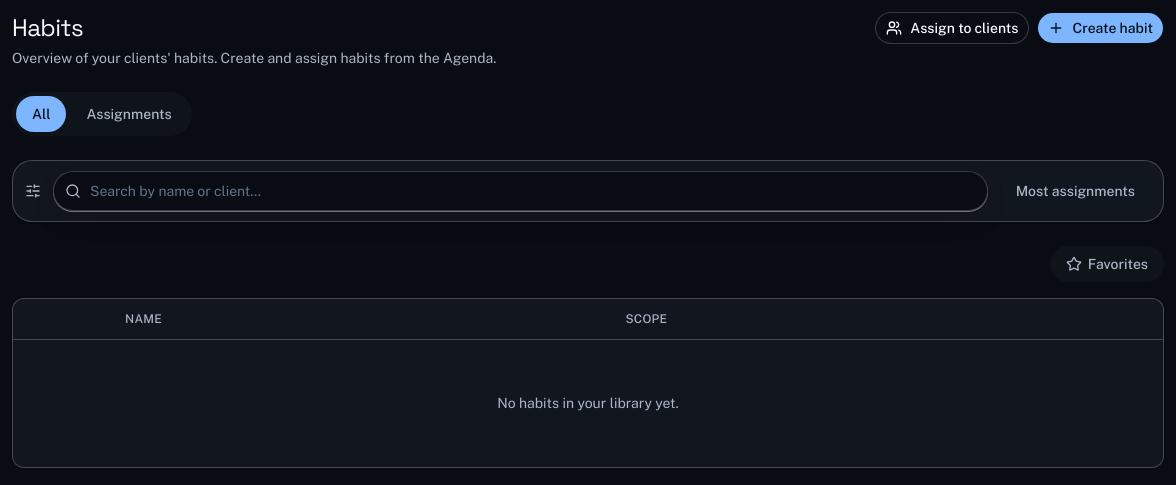
Test: Habits — assignments visibility › cuts a one-time habit on its single occurrence
This screenshot has width=1176, height=485.
Click the button "Assignments" at {"x": 129, "y": 114}, box left=70, top=96, right=188, bottom=132
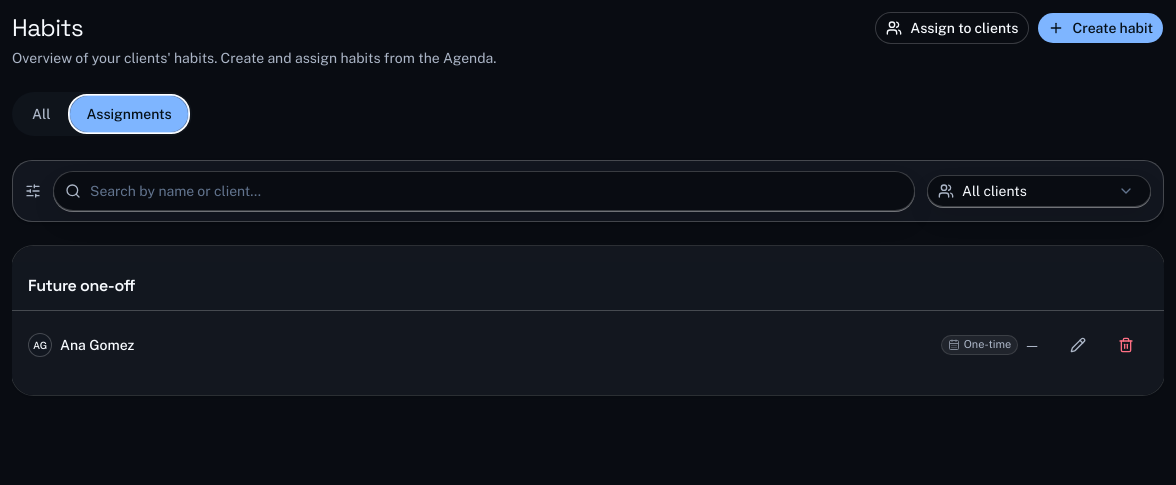
Expected: the heading "Future one-off" is shown, left=28, top=274, right=135, bottom=298
